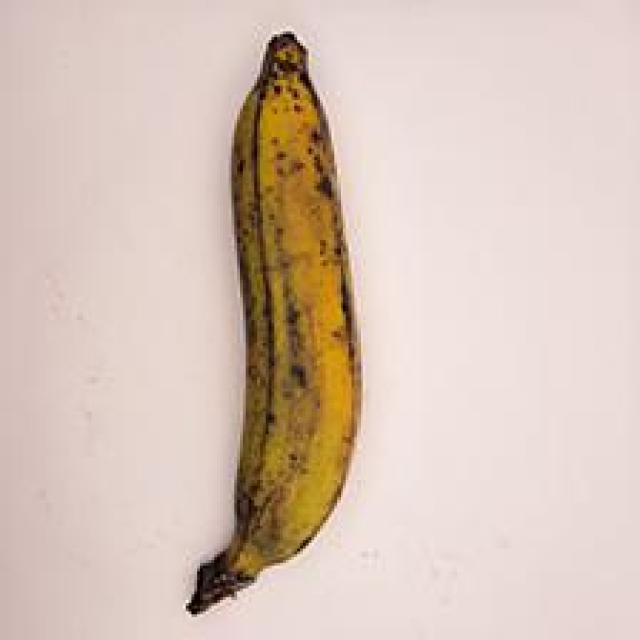Overripe: (153, 26, 389, 632)
